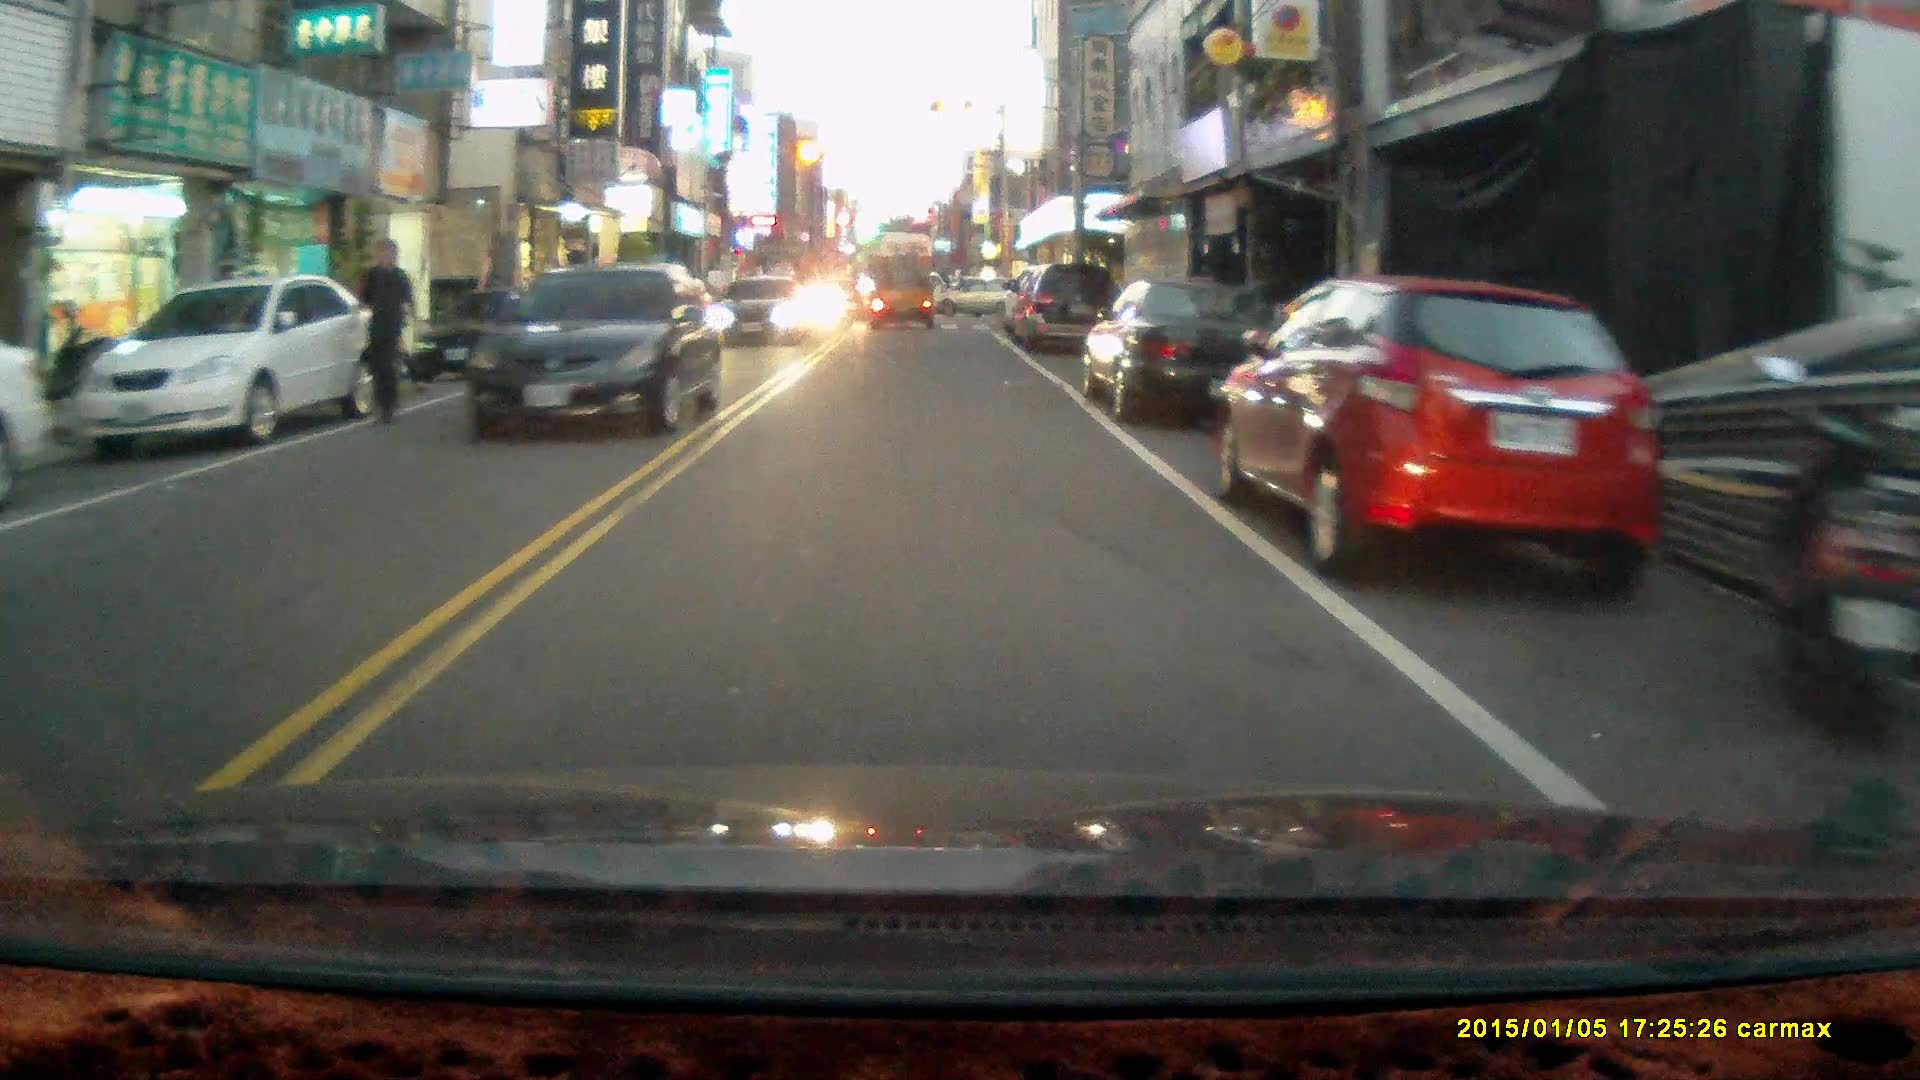pedestrian: (345, 236, 420, 427)
vehicle: (1219, 278, 1663, 602), (71, 272, 374, 453), (453, 262, 725, 440), (1081, 282, 1295, 429), (420, 290, 568, 392), (1002, 266, 1129, 360), (712, 280, 805, 352), (870, 262, 939, 340)
